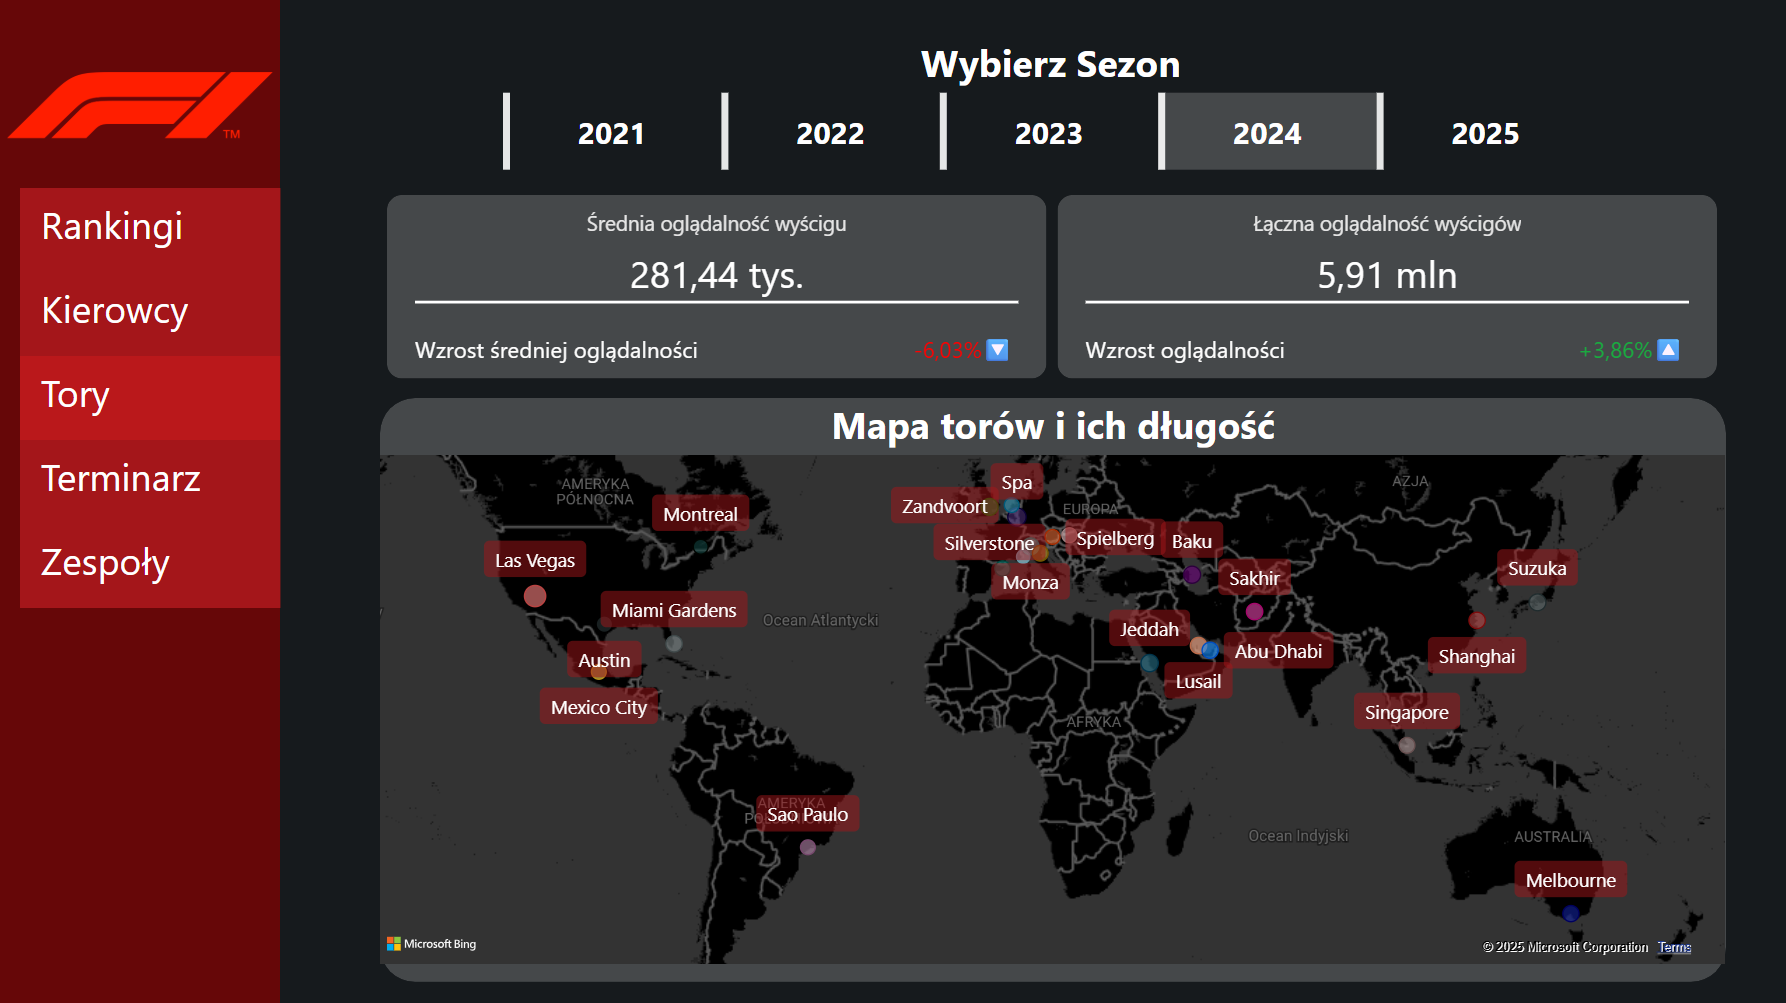

The dashboard page shown, as its layout file describes it:
{"tool":"powerbi","page":{"name":"Tory","canvas":[1280,720],"ordinal":2},"visuals":[{"type":"shape","box":[271.4,284.3,961.4,417.1],"z":0},{"type":"map","title":"Mapa torów i ich długość","fields":{"Category":["DWH dim_circuit.circuit_place_name"],"Size":["Sum(DWH dim_circuit.circuit_length)"],"Series":["DWH dim_race.race_grand_prix_full_name"]},"box":[271.4,284.3,961.4,404.3],"z":1000},{"type":"shape","box":[0,0,200,720],"z":2000},{"type":"image","box":[0,0,200,150],"z":3000},{"type":"pageNavigator","box":[14,134,186,300],"z":4000},{"type":"advancedSlicerVisual","title":"Wybierz Sezon","fields":{"Values":["DWH dim_race.race_year"]},"box":[354.3,25.7,792.9,101.4],"z":5000},{"type":"cardVisual","fields":{"Data":["Avg(DWH dim_race.race_weekend_attendance)","Sum(DWH dim_race.race_weekend_attendance)1"]},"box":[271.4,134.3,961.4,141.4],"z":6000}]}

Visuals, with their boxes in screenshot pixels (x1, y1, x2, y2), scaled from the page's 1280x720 canvas onto the 1786x1003 screenshot:
shape: 379 396 1720 977
"Mapa torów i ich długość" map: 379 396 1720 959
shape: 0 0 279 1002
image: 0 0 279 209
pageNavigator: 20 187 279 605
"Wybierz Sezon" advancedSlicerVisual: 494 36 1601 177
cardVisual - Avg(DWH dim_race.race_weekend_attendance) x Sum(DWH dim_race.race_weekend_attendance)1: 379 187 1720 384
